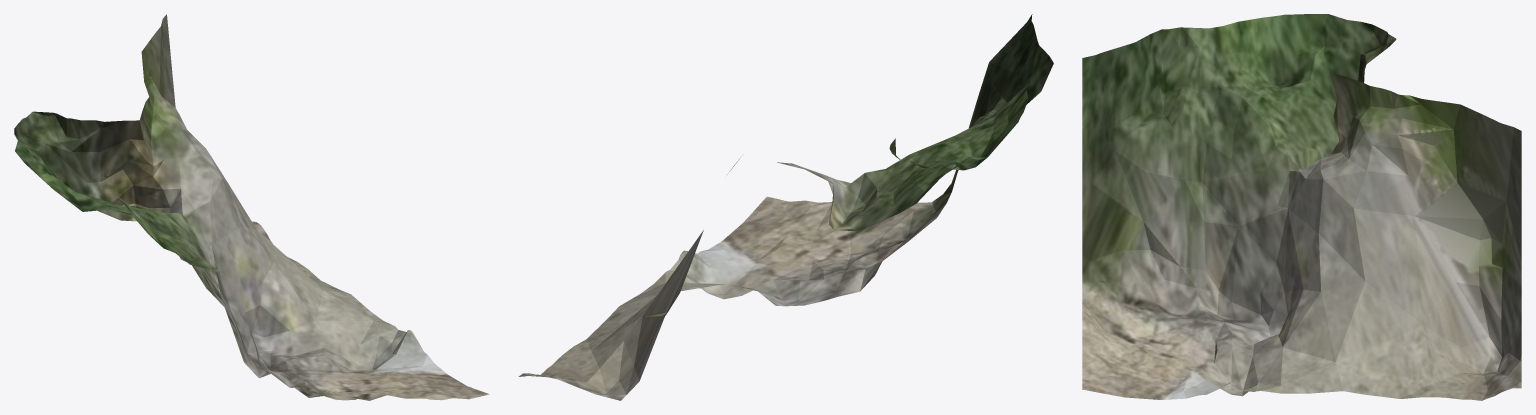
3 views of the same model, side by side, from view 1: azimuth 30°, elevation 25°; view 2: azimuth 150°, elevation 25°; view 3: azimuth 270°, elevation 25° (orthographic). The views are drawn at different scales.
Bounding box in the file's own units: 5.02 × 3.57 × 5.9.
3 materials, 3 textured.
